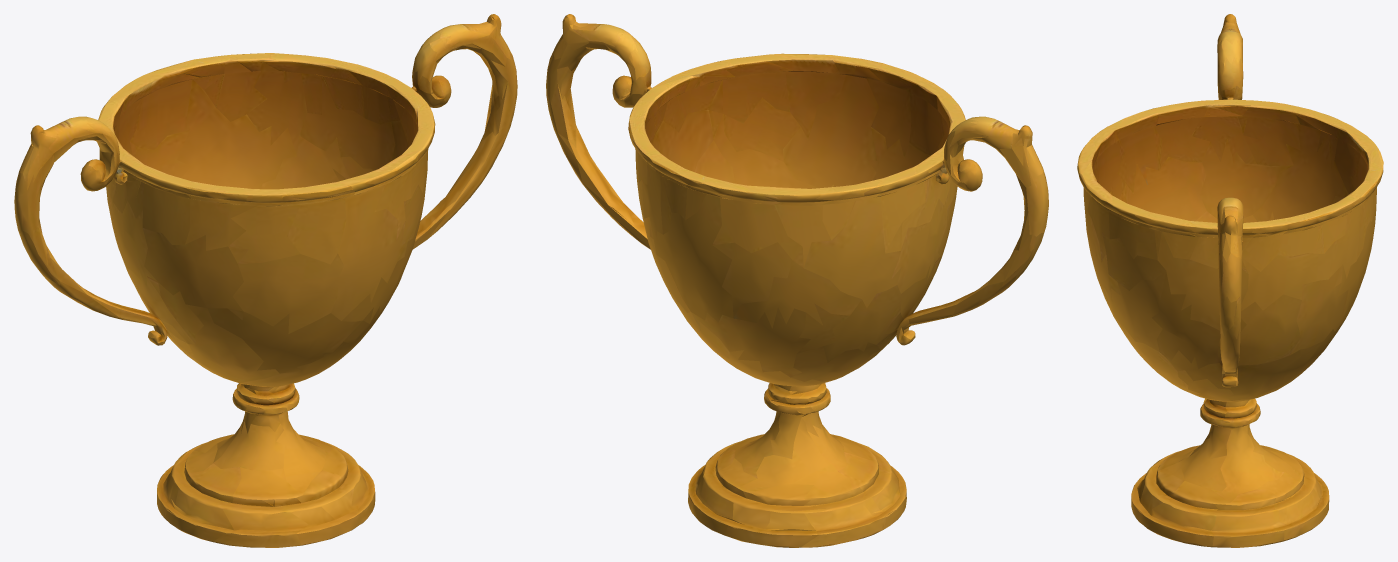
Rendered from trophy.glb.
The picture shows the model from 3 angles, left to right: view 1: azimuth 30°, elevation 25°; view 2: azimuth 150°, elevation 25°; view 3: azimuth 270°, elevation 25°; orthographic projection. The views are drawn at different scales.
Size of the model in its own units: 1.9 by 1.58 by 1.11.
Materials: 1 (1 with a texture image).
